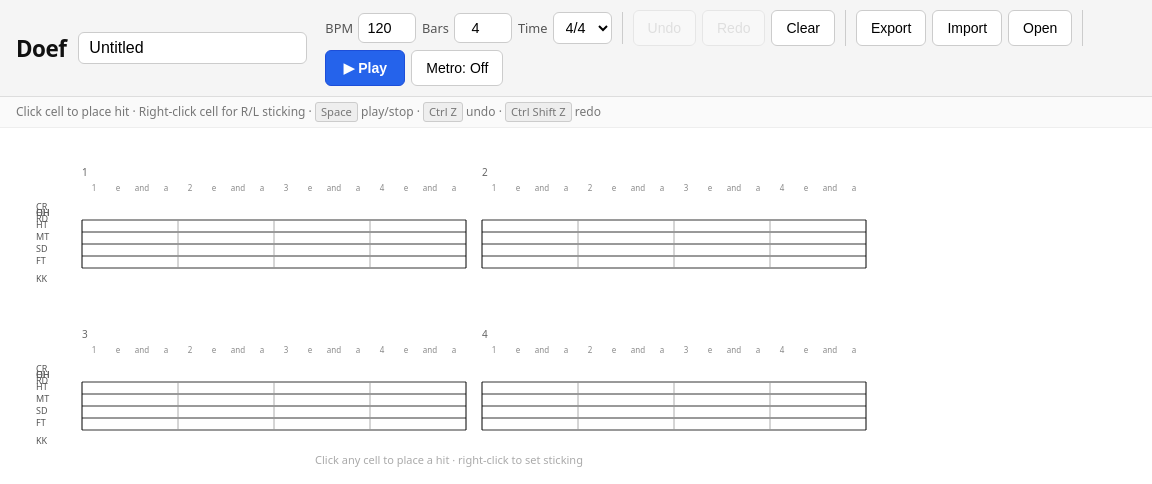
Test: App › open sheet list › closes the list after clicking Close
The image size is (1152, 484).
Step 1. Click the button with aria-label "Open sheet" → (1040, 28), box left=1008, top=10, right=1072, bottom=46
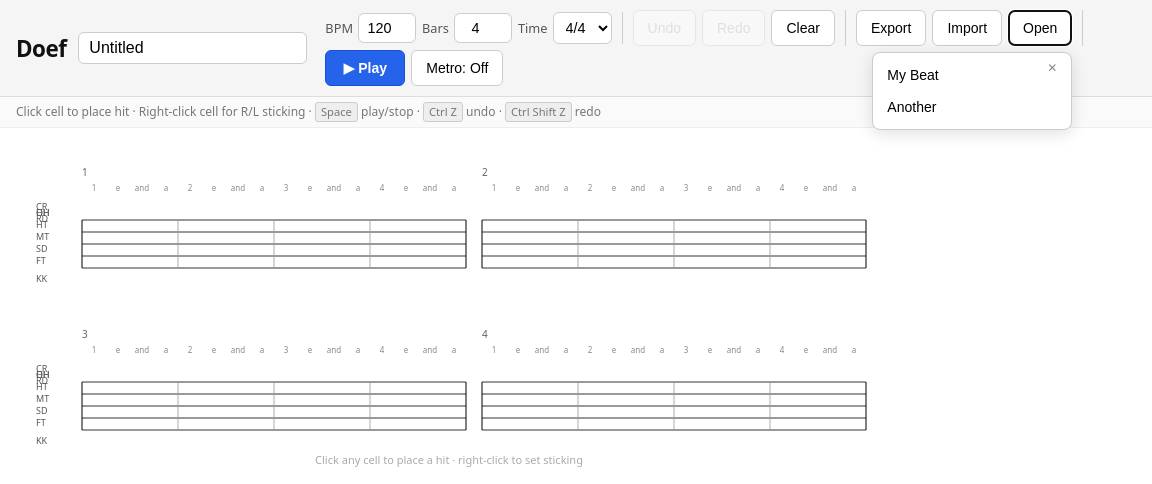
Step 2. Click the button named "Close sheet list" → (1052, 68), box left=1041, top=59, right=1063, bottom=77
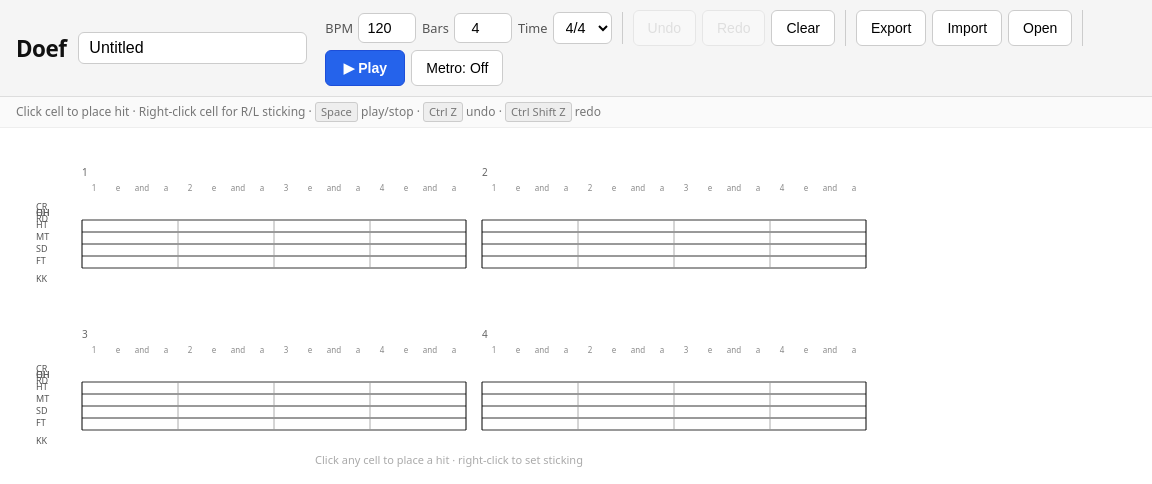
Check: the button "My Beat" is gone
